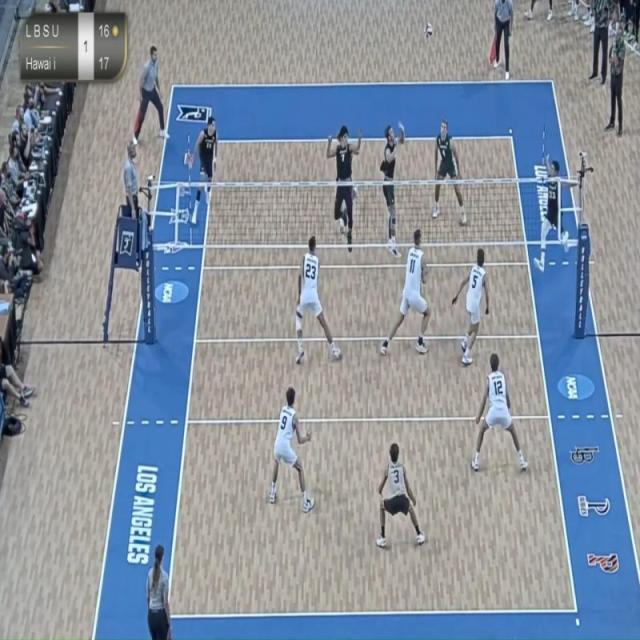volleyball: (422, 18, 436, 42)
